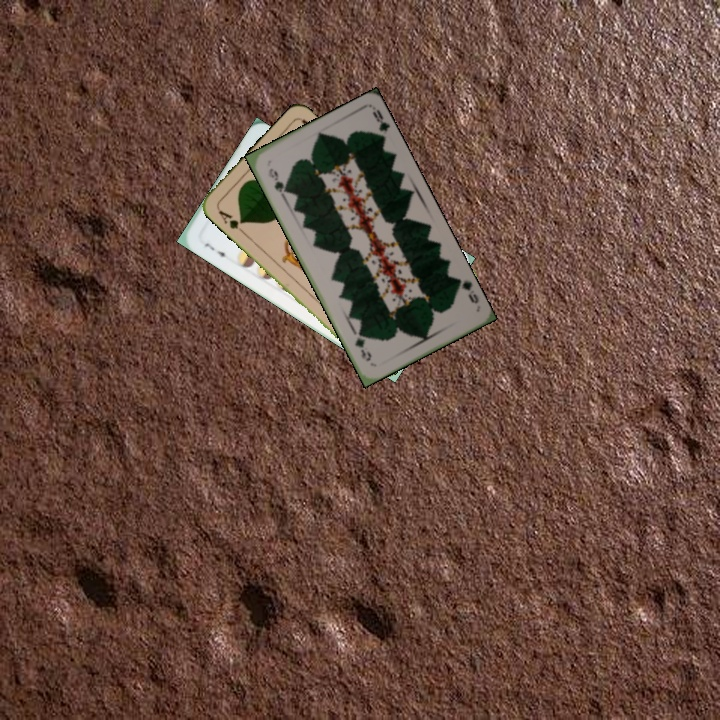E7: (200, 239, 230, 262)
G9: (453, 274, 482, 306), (264, 164, 290, 196)
GA: (214, 204, 247, 236)
